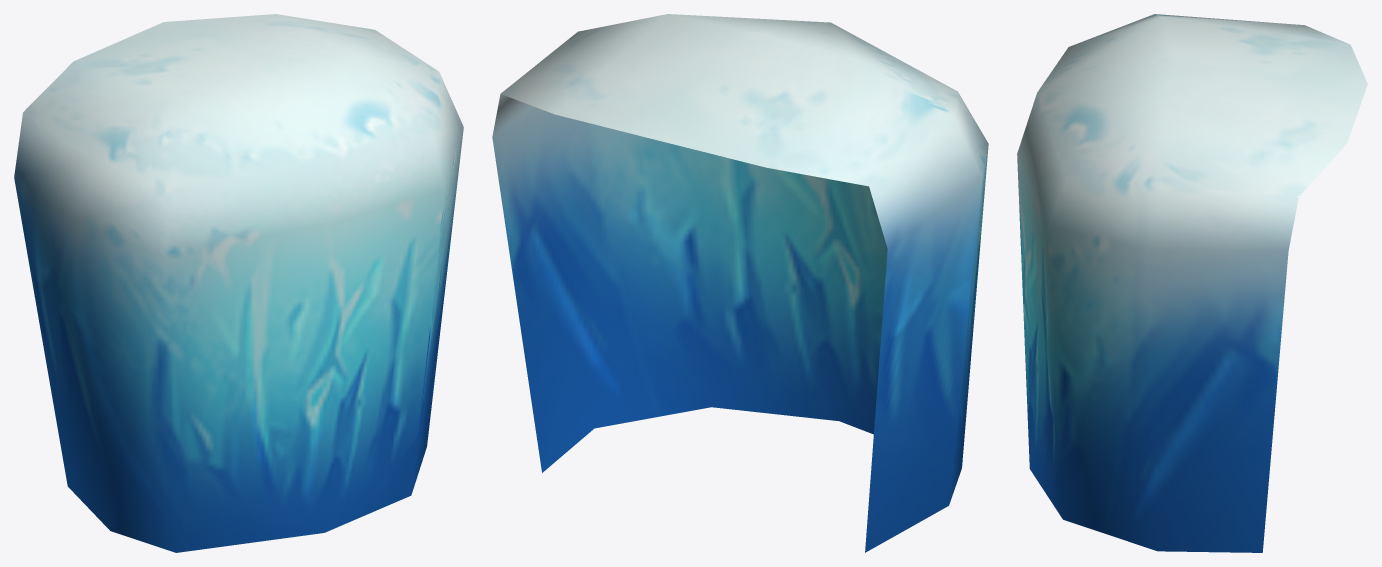
Rendered from Chapter3Scene1Model2.FBX.
The picture shows the model from 3 angles, left to right: view 1: azimuth 30°, elevation 25°; view 2: azimuth 150°, elevation 25°; view 3: azimuth 270°, elevation 25°; orthographic projection. The views are drawn at different scales.
Parts seen in each view (by area): view 1: Chapter3Scene1Model2; view 2: Chapter3Scene1Model2; view 3: Chapter3Scene1Model2.
Boxes of the visible parts, x1,y1,x2,y2 form: Chapter3Scene1Model2: [14, 14, 463, 552]; Chapter3Scene1Model2: [492, 14, 988, 552]; Chapter3Scene1Model2: [1017, 14, 1367, 552].
Size of the model in its own units: 120 by 92.98 by 124.
